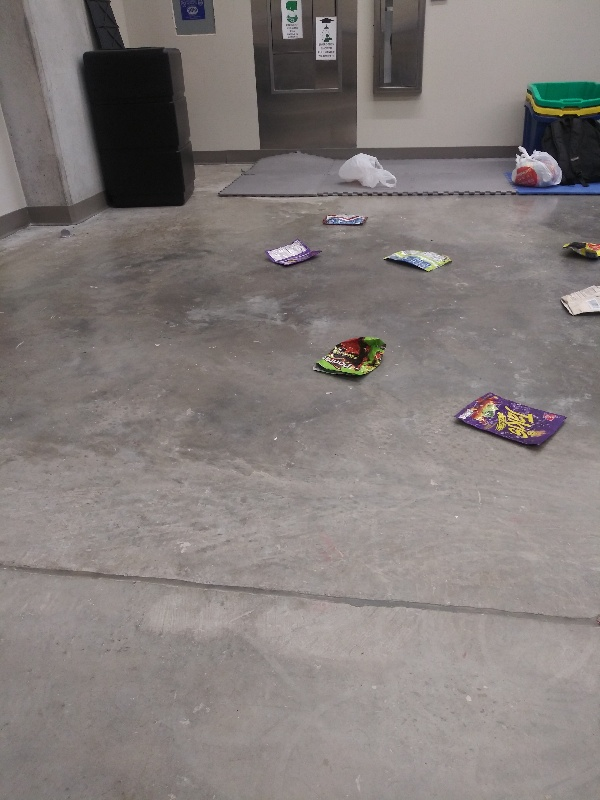bag: (450, 389, 567, 450), (309, 333, 391, 382), (377, 244, 457, 275), (260, 237, 332, 271), (553, 282, 600, 318), (557, 239, 600, 265), (318, 209, 369, 230)
